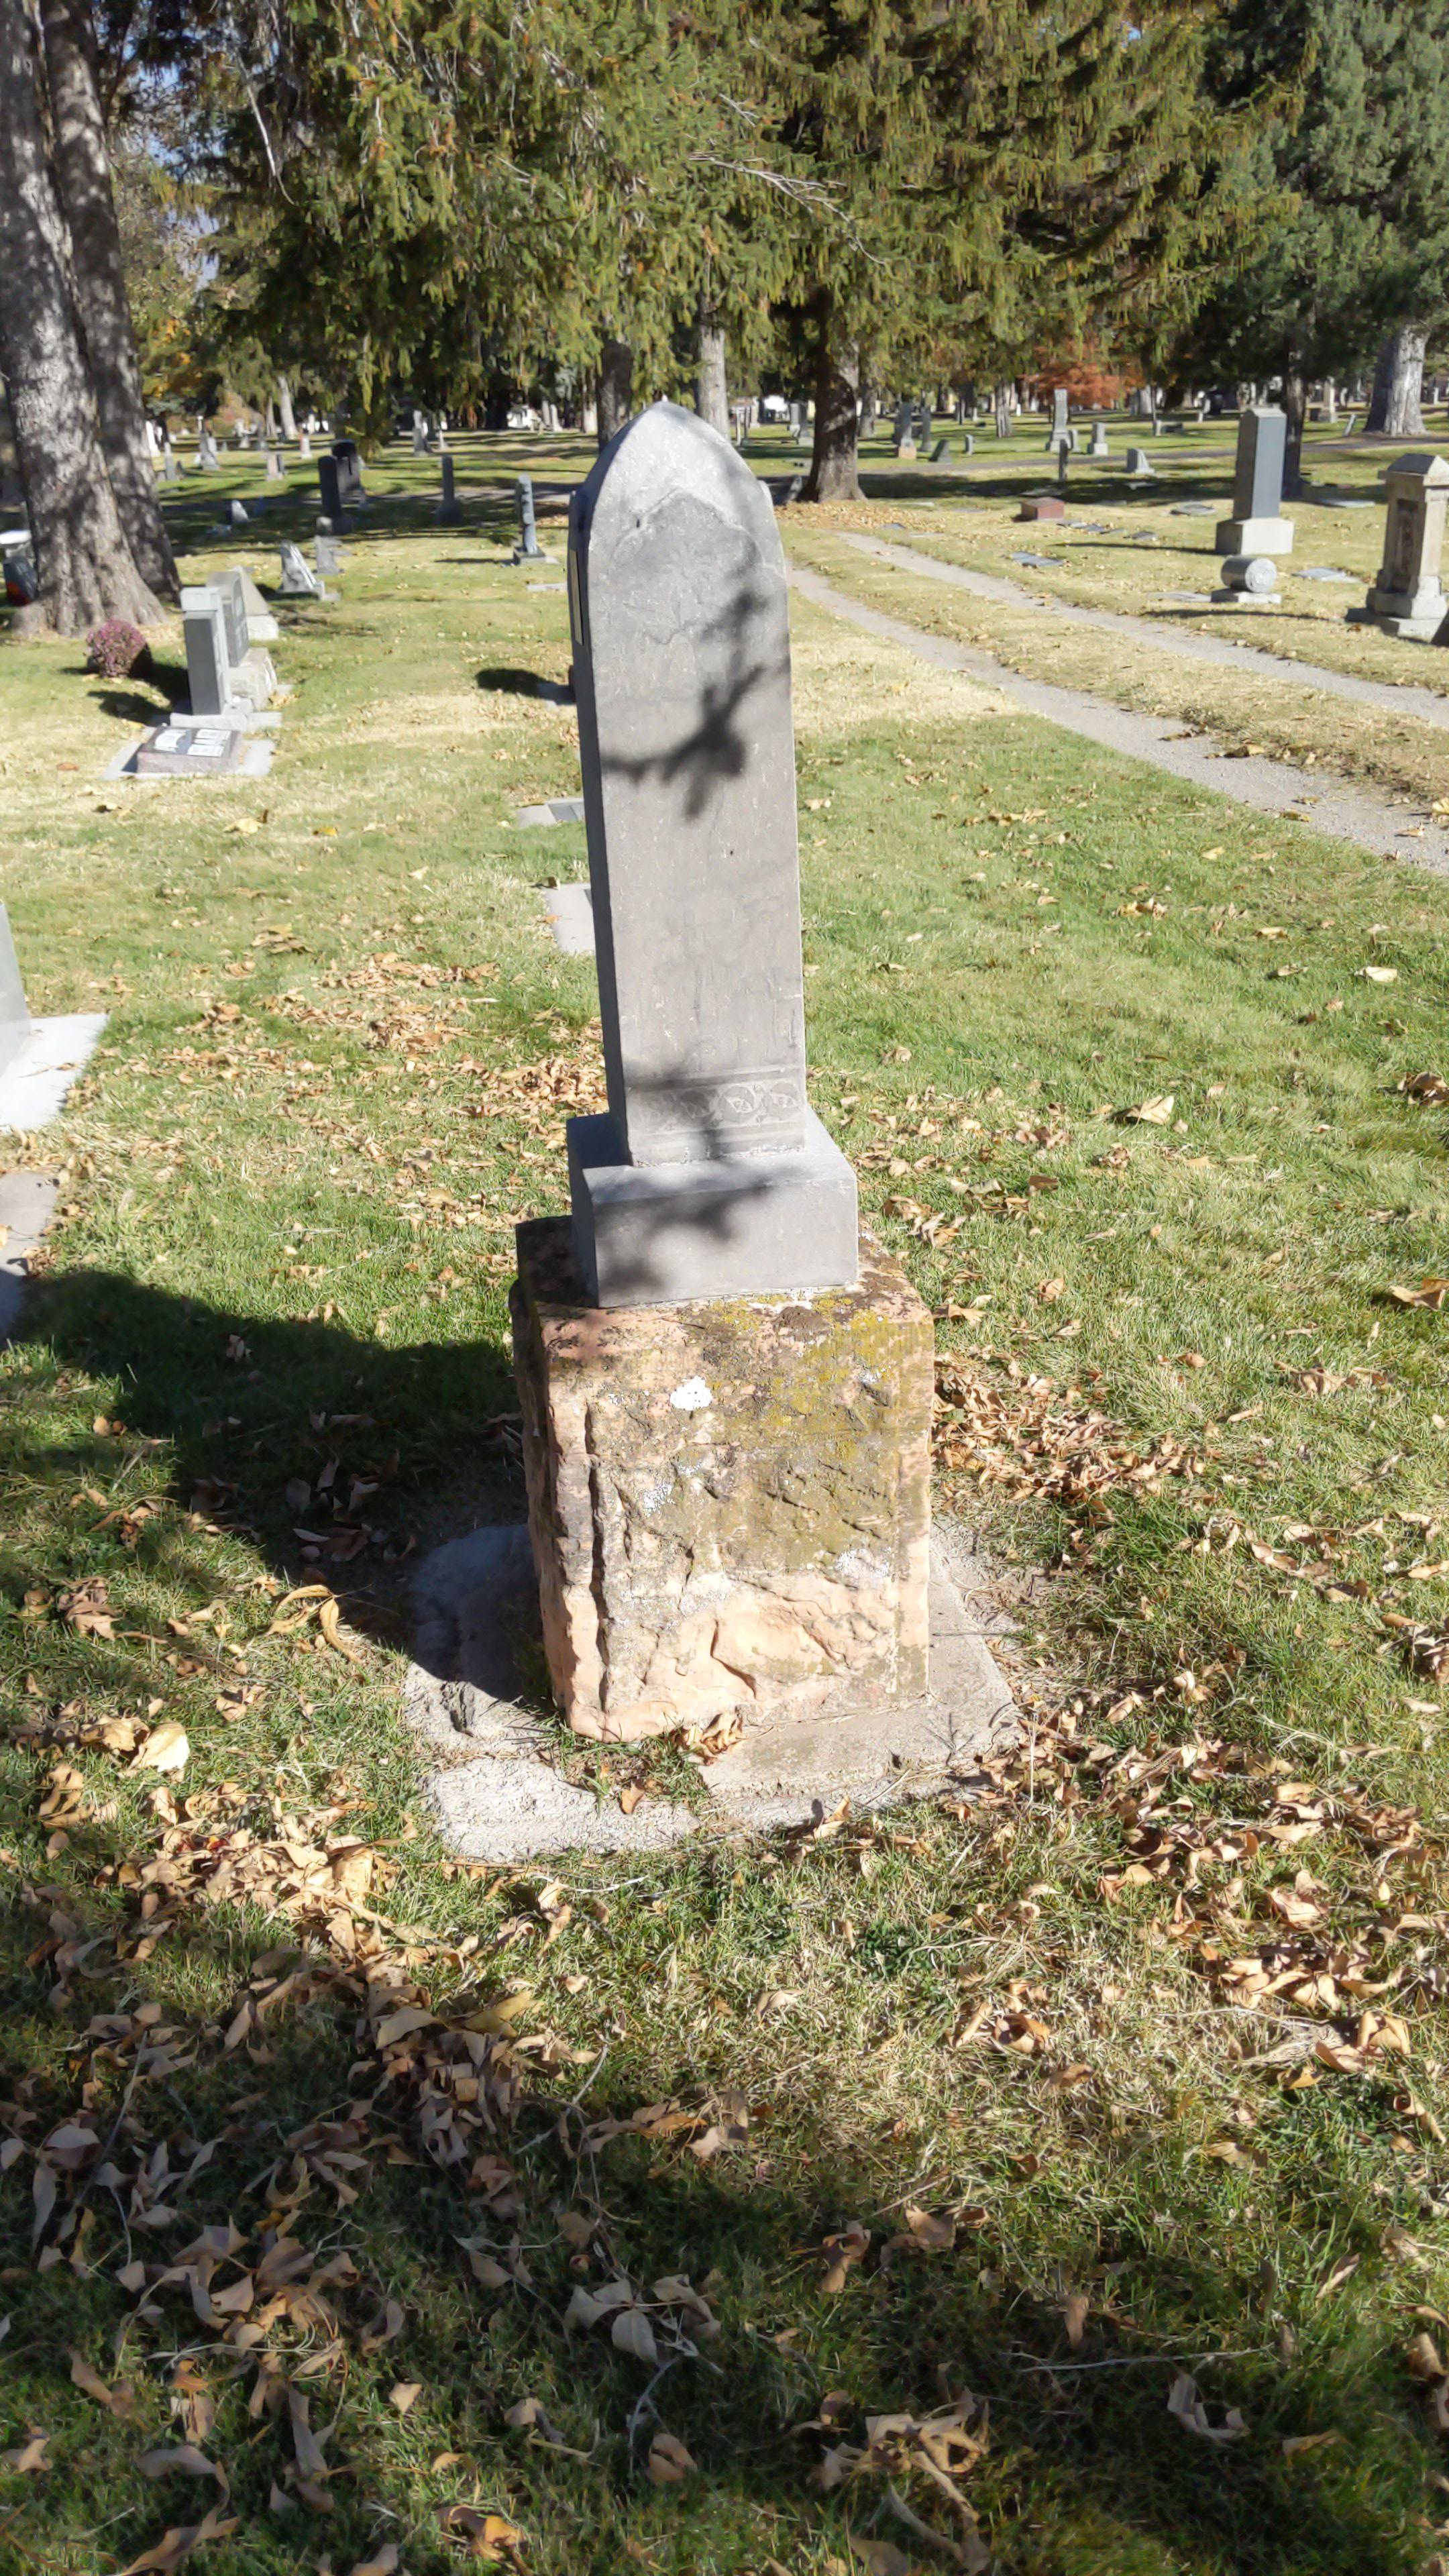obelisk: (557, 377, 865, 1309)
